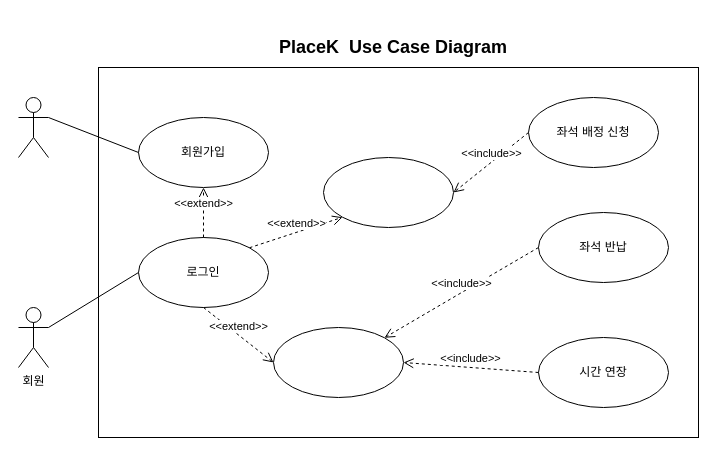
The diagram is 716 pixels wide and 463 high, and some of its shapes have lost their labels. Each missing label, with the box of its shape:
배정 좌석 확인: (272, 326, 404, 398)
비회원: (18, 96, 48, 158)
잔여 좌석 조회: (322, 156, 454, 228)
